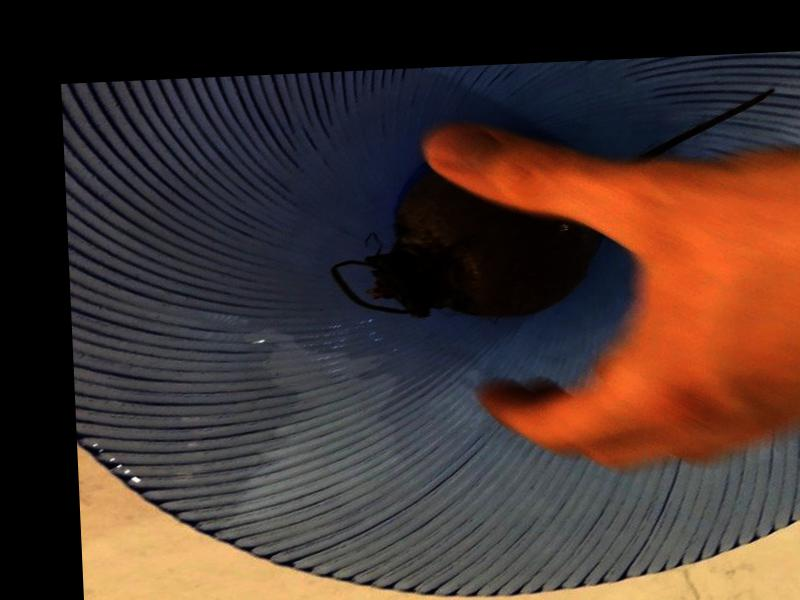Beet: (324, 89, 782, 325)
